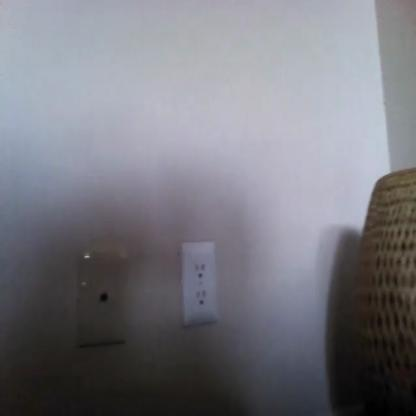OUTLET: (182, 240, 216, 322)
